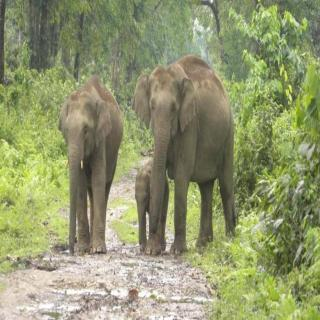Elephant: (132, 52, 245, 260), (56, 73, 128, 261), (134, 155, 172, 261)
